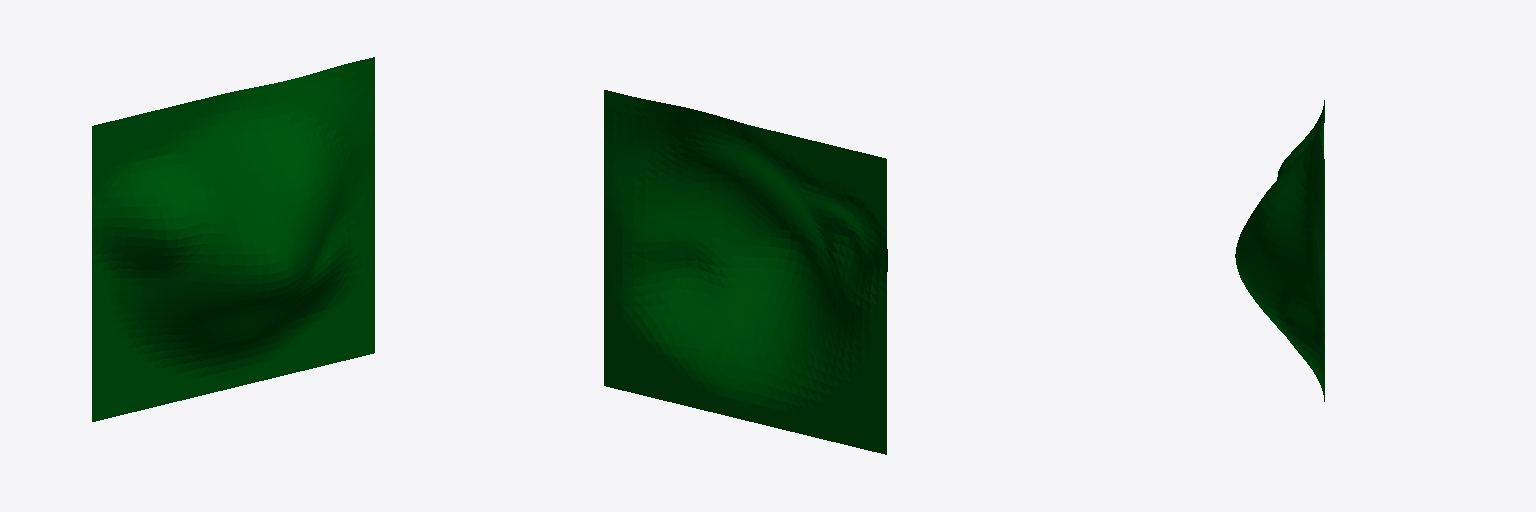
The model's file is volcano.obj.
3 views of the same model, side by side, from view 1: azimuth 30°, elevation 25°; view 2: azimuth 150°, elevation 25°; view 3: azimuth 270°, elevation 25° (orthographic).
Parts seen in each view (by area): view 1: Plane; view 2: Plane; view 3: Plane.
Boxes of the visible parts, <box> form: Plane: <box>92,57,374,421</box>; Plane: <box>604,90,887,454</box>; Plane: <box>1235,100,1324,401</box>.
Size of the model in its own units: 100 by 100 by 27.37.